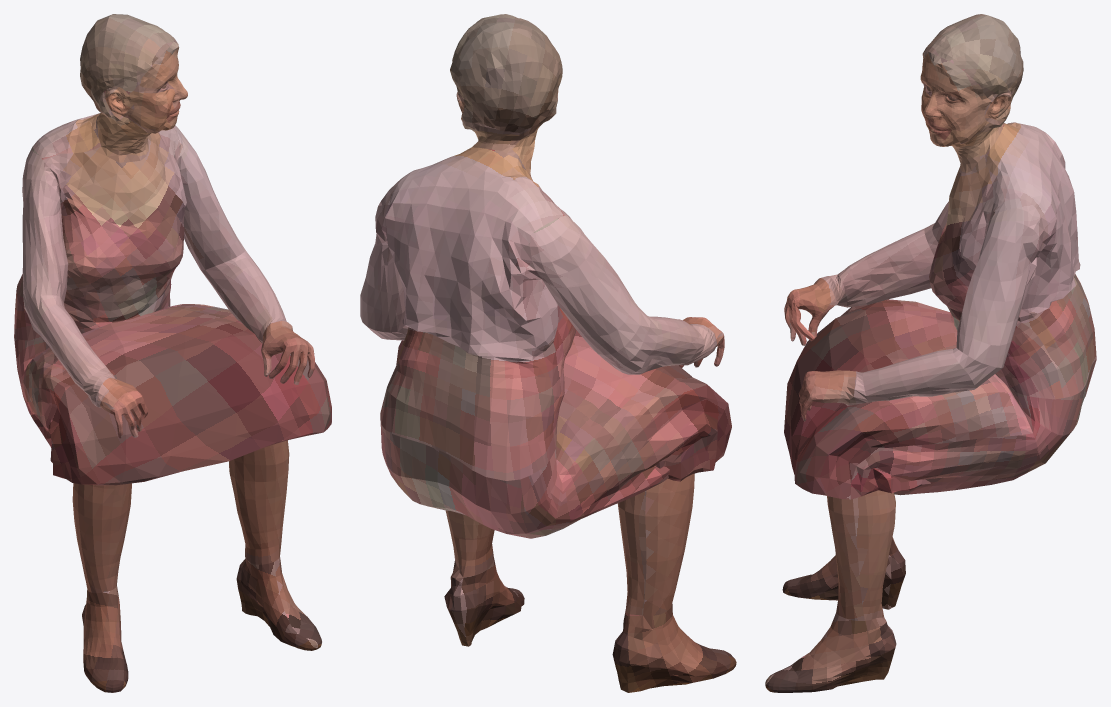
File: caren_sitting.dae
3 renders of one model, left to right at view 1: azimuth 30°, elevation 25°; view 2: azimuth 150°, elevation 25°; view 3: azimuth 270°, elevation 25°, orthographic. The views are drawn at different scales.
Parts seen in each view (by area): view 1: caren_sitting_ue.002; view 2: caren_sitting_ue.002; view 3: caren_sitting_ue.002.
Boxes of the visible parts, x1=… form: caren_sitting_ue.002: x1=14, y1=14, x2=331, y2=692; caren_sitting_ue.002: x1=360, y1=14, x2=736, y2=692; caren_sitting_ue.002: x1=765, y1=14, x2=1096, y2=692.
Size of the model in its own units: 0.6164 by 0.6335 by 1.31.
Materials: 1 (1 with a texture image).
